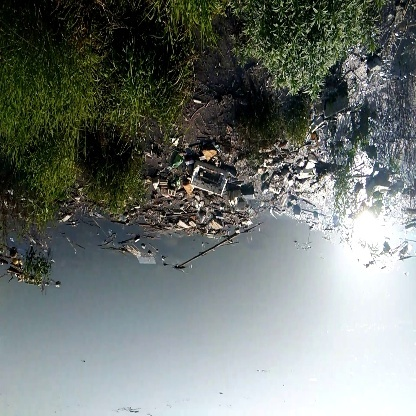branch: (175, 234, 242, 270)
plastic-garbage: (188, 159, 235, 200)
